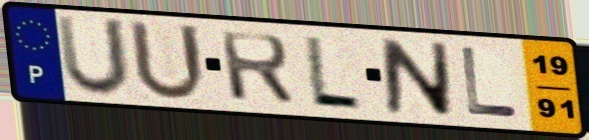L: (301, 33, 365, 113), (457, 45, 522, 121)
N: (378, 36, 456, 120)
R: (216, 29, 298, 107)
U: (125, 17, 210, 104), (53, 12, 133, 100)
